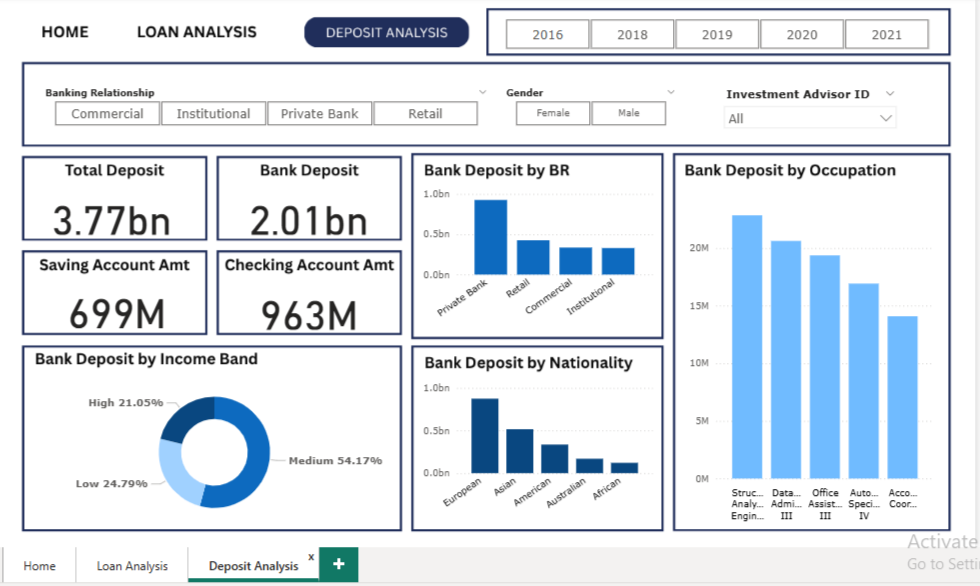

This screenshot's page, from the dashboard's own definition file:
{"tool":"powerbi","page":{"name":"Deposit Analysis","canvas":[1280,720],"ordinal":2},"visuals":[{"type":"slicer","fields":{"Values":["banking_clean.Joined_Bank.Variation.Date Hierarchy.Year"]},"box":[640,21.8,603,52.1],"z":0},{"type":"actionButton","box":[35.3,28.6,100.8,40.3],"z":1000},{"type":"card","fields":{"Values":["banking_clean.Total_Deposit"]},"box":[50.4,253.6,199.9,62.2],"z":3000},{"type":"card","fields":{"Values":["Sum(banking_clean.Bank_Deposits)"]},"box":[307.4,253.6,199.9,62.2],"z":4000},{"type":"card","fields":{"Values":["Sum(banking_clean.Saving_Accounts)"]},"box":[50.4,375.8,213.1,63.4],"z":5000},{"type":"card","fields":{"Values":["Sum(banking_clean.Checking_Accounts)"]},"box":[307.4,378,199.9,62.2],"z":6000},{"type":"donutChart","fields":{"Category":["banking_clean.Income_Band"],"Y":["Sum(banking_clean.Bank_Deposits)"]},"box":[50.4,497.2,468.7,196.5],"z":7000},{"type":"clusteredColumnChart","fields":{"Category":["banking_clean.BRId"],"Y":["Sum(banking_clean.Bank_Deposits)"]},"box":[552.7,243.6,310.8,196.5],"z":8000},{"type":"clusteredColumnChart","fields":{"Category":["banking_clean.Nationality"],"Y":["Sum(banking_clean.Bank_Deposits)"]},"box":[552.7,497.2,310.8,196.5],"z":9000},{"type":"clusteredColumnChart","fields":{"Category":["banking_clean.Occupation"],"Y":["Sum(banking_clean.Bank_Deposits)"]},"box":[900.4,253.6,330.9,440.1],"z":10000},{"type":"slicer","fields":{"Values":["banking_clean.BRId"]},"box":[50.4,112.3,603.4,61.9],"z":11000},{"type":"slicer","fields":{"Values":["banking_clean.GenderId"]},"box":[653.8,112.3,246.2,61.9],"z":12000},{"type":"slicer","fields":{"Values":["banking_clean.IAId"]},"box":[941.8,112.3,246.2,61.9],"z":13000},{"type":"actionButton","box":[172.8,25.9,180,41.8],"z":13001}]}

Visuals, with their boxes on the page's 1280x720 design canvas (x1, y1, x2, y2). These are canvas units, not pixel positions in the 980x586 screenshot, which may show the page scaled, cropped or inside an application window:
slicer - banking_clean.Joined_Bank.Variation.Date Hierarchy.Year: 640:22:1243:74
actionButton: 35:29:136:69
card - banking_clean.Total_Deposit: 50:254:250:316
card - Sum(banking_clean.Bank_Deposits): 307:254:507:316
card - Sum(banking_clean.Saving_Accounts): 50:376:264:439
card - Sum(banking_clean.Checking_Accounts): 307:378:507:440
donutChart - banking_clean.Income_Band x Sum(banking_clean.Bank_Deposits): 50:497:519:694
clusteredColumnChart - banking_clean.BRId x Sum(banking_clean.Bank_Deposits): 553:244:864:440
clusteredColumnChart - banking_clean.Nationality x Sum(banking_clean.Bank_Deposits): 553:497:864:694
clusteredColumnChart - banking_clean.Occupation x Sum(banking_clean.Bank_Deposits): 900:254:1231:694
slicer - banking_clean.BRId: 50:112:654:174
slicer - banking_clean.GenderId: 654:112:900:174
slicer - banking_clean.IAId: 942:112:1188:174
actionButton: 173:26:353:68
